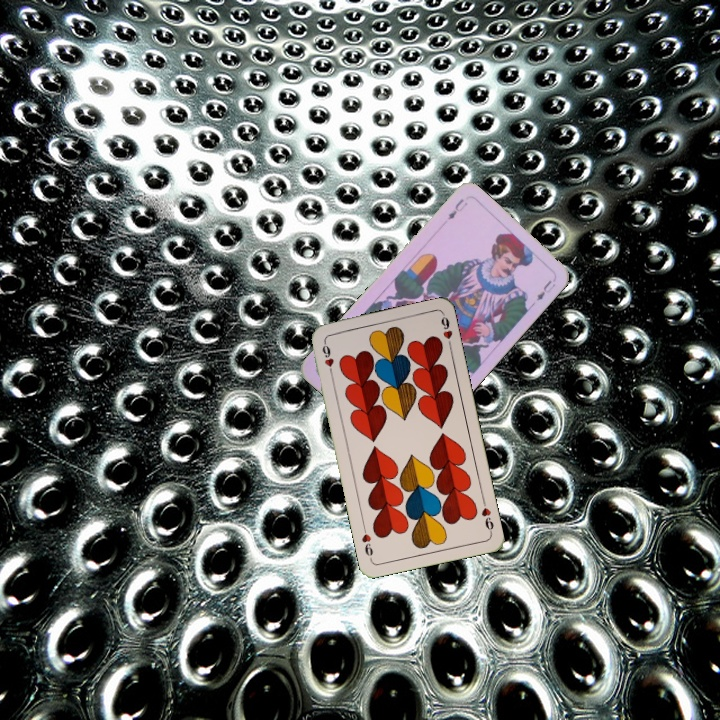EU: (444, 195, 470, 222)
H9: (477, 496, 496, 536), (318, 337, 336, 378)
